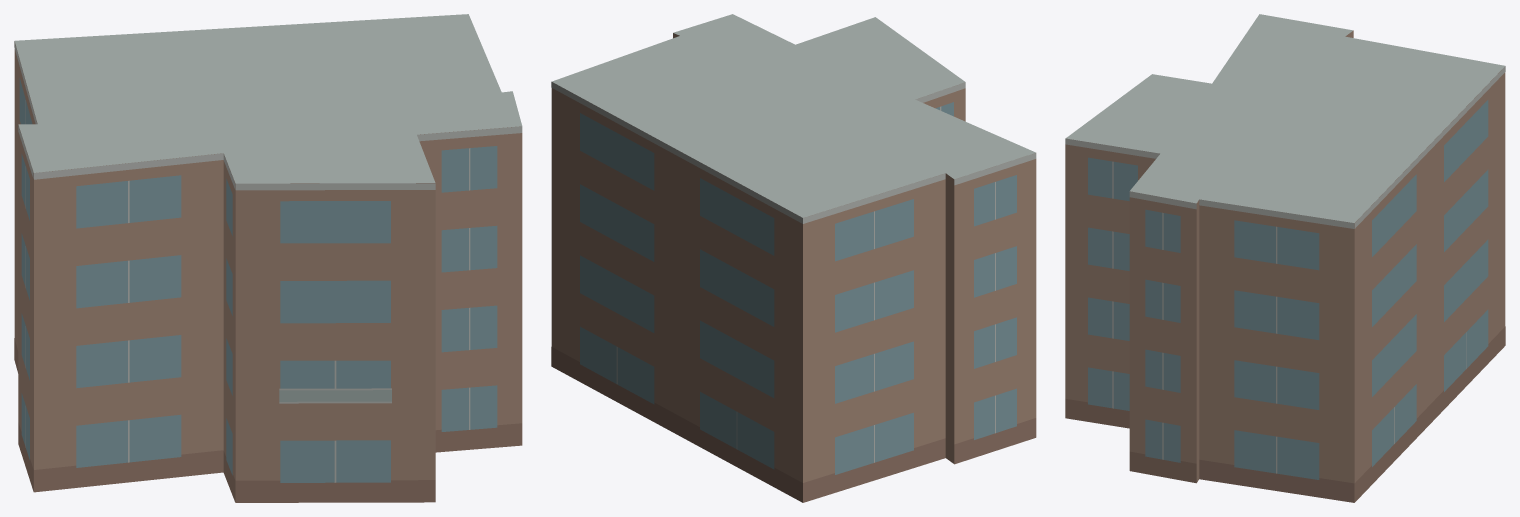
The model's file is survey-upis-33045063.glb.
The picture shows the model from 3 angles, left to right: view 1: azimuth 30°, elevation 25°; view 2: azimuth 150°, elevation 25°; view 3: azimuth 270°, elevation 25°; orthographic projection. The views are drawn at different scales.
Visible parts, largest first — view 1: survey-upis-33045063.tmp; view 2: survey-upis-33045063.tmp; view 3: survey-upis-33045063.tmp.
Boxes of the visible parts, x1,y1,x2,y2 form: survey-upis-33045063.tmp: [14, 14, 522, 502]; survey-upis-33045063.tmp: [551, 14, 1036, 502]; survey-upis-33045063.tmp: [1065, 14, 1505, 502].
Bounding box in the file's own units: 18.4 × 11.47 × 16.36.
